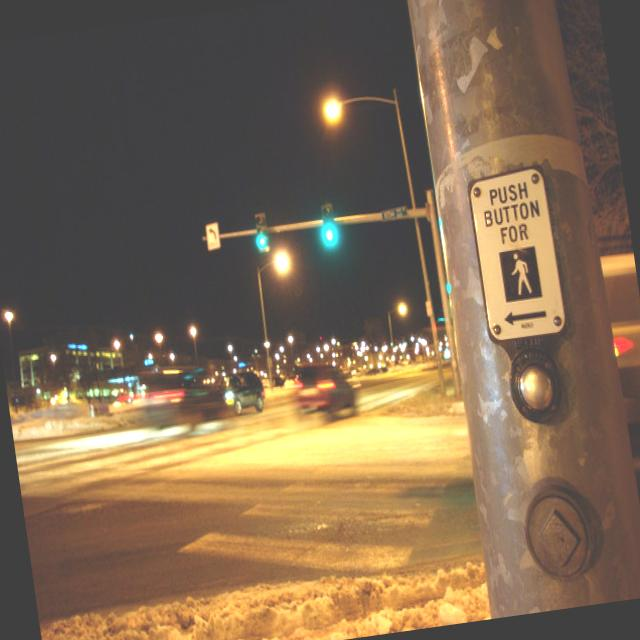Vehicle: (294, 361, 354, 415), (214, 370, 267, 418), (114, 390, 134, 406), (364, 368, 380, 376), (381, 366, 388, 372)
